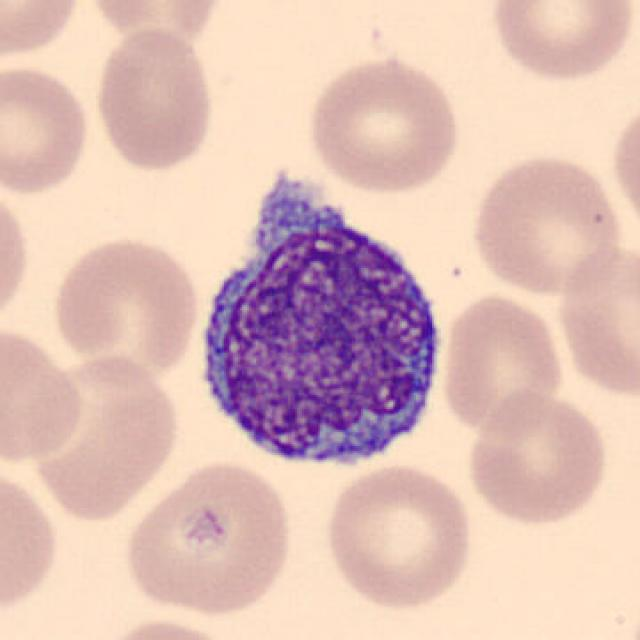Monocyte: (181, 166, 455, 483)
RBC: (12, 349, 185, 522), (117, 456, 297, 618), (468, 150, 628, 300), (320, 460, 476, 612), (48, 231, 203, 383), (302, 51, 464, 196), (462, 388, 612, 529), (437, 289, 567, 439), (90, 24, 218, 174), (551, 236, 640, 400), (0, 60, 94, 197), (0, 319, 87, 467), (486, 0, 636, 85), (0, 462, 64, 626), (84, 0, 228, 48), (0, 0, 85, 63), (0, 180, 34, 333), (606, 97, 640, 240), (88, 613, 245, 640)
